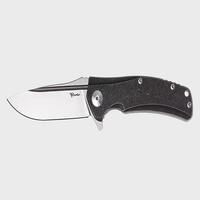knife: (4, 70, 200, 130)
